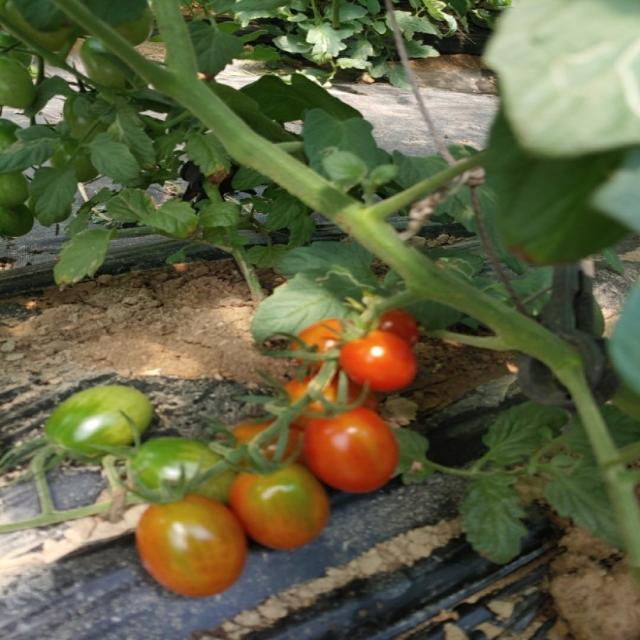level 2: (95, 424, 240, 516)
level 3: (35, 377, 146, 463)
level 4: (117, 484, 256, 618), (204, 461, 344, 561)
level 5: (307, 406, 439, 490), (336, 324, 423, 398), (274, 306, 354, 375), (246, 378, 348, 428)
